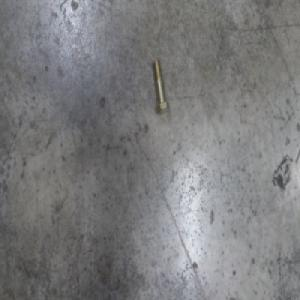Bolt: (152, 57, 170, 115)
